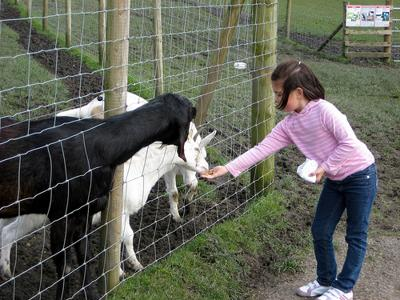person: (198, 62, 378, 300)
